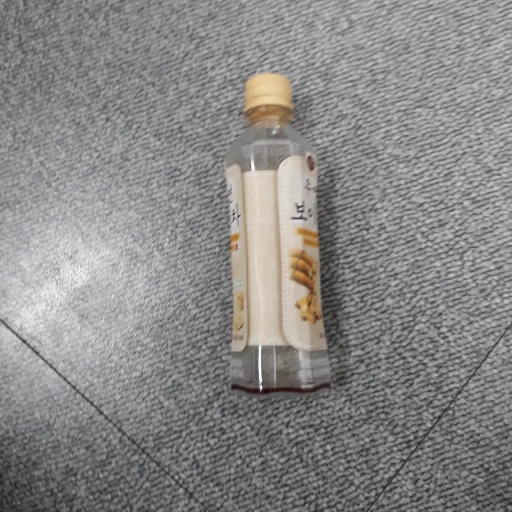Plastic_0: (221, 75, 337, 395)
